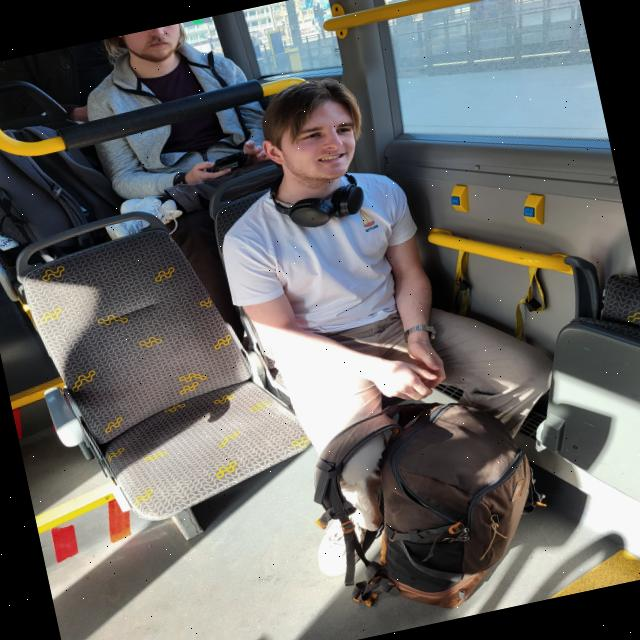empty-seat-frontal: (0, 182, 321, 539)
